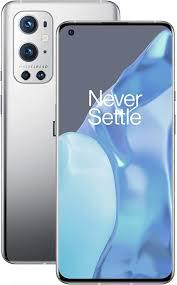Smartphone: (57, 26, 176, 284), (4, 0, 114, 270)
